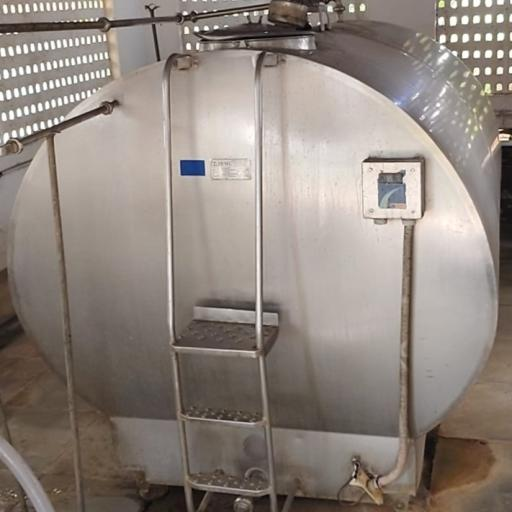silo: (10, 16, 500, 493)
